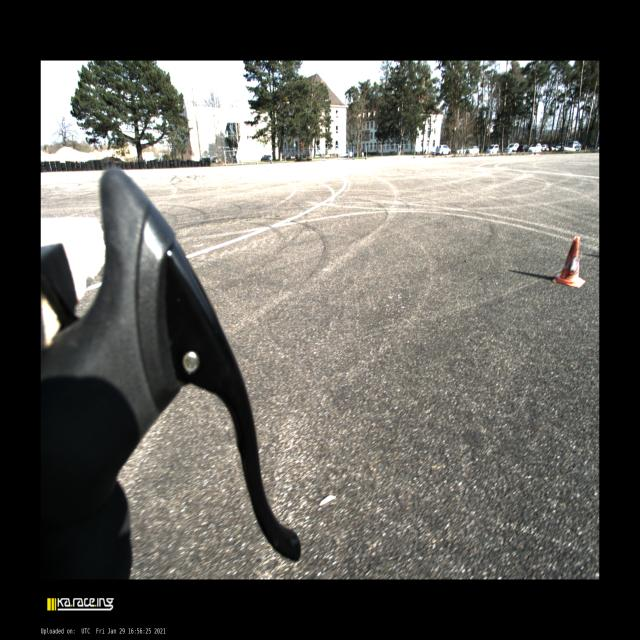orange_cone: (552, 236, 586, 288)
